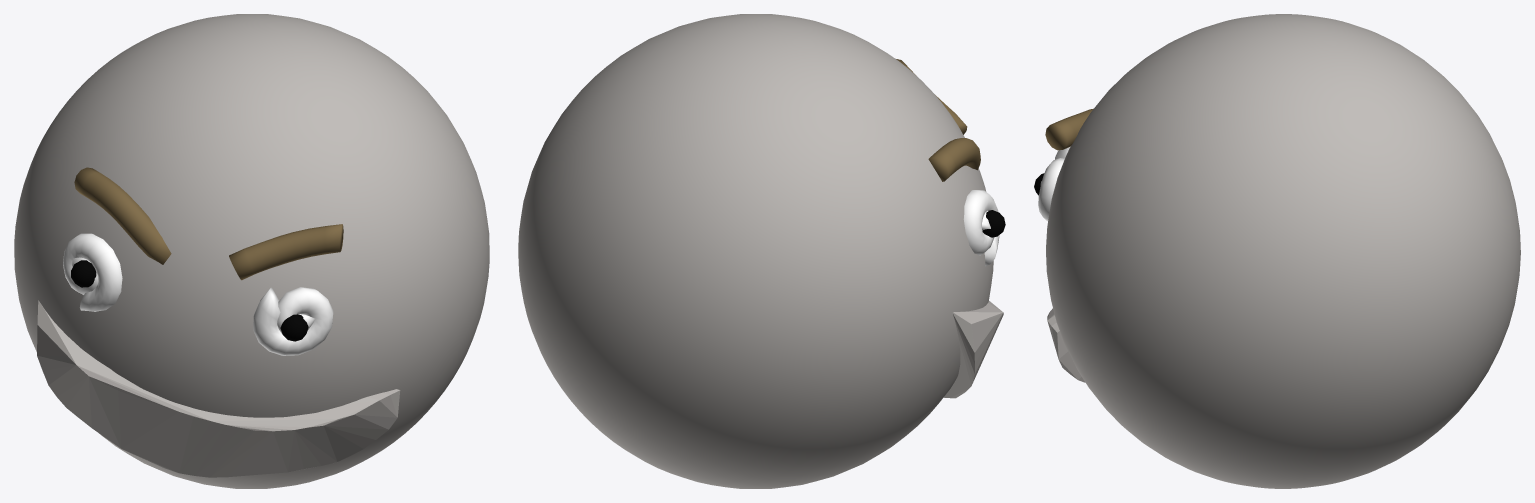
The model's file is Supervisor_2025-09-22_14.00.31.gltf.
3 renders of one model, left to right at view 1: azimuth 30°, elevation 25°; view 2: azimuth 150°, elevation 25°; view 3: azimuth 270°, elevation 25°, orthographic.
Parts seen in each view (by area): view 1: Sphere, LODGroup (×7); view 2: Sphere, LODGroup (×3); view 3: Sphere, LODGroup (×3).
Boxes of the visible parts, x1,y1,x2,y2 form: Sphere: (14,14,489,488); LODGroup (×7): (37,167,400,477); Sphere: (518,14,993,488); LODGroup (×3): (928,138,1003,398); Sphere: (1046,14,1520,488); LODGroup (×3): (1038,108,1093,382).
Bounding box in the file's own units: 0.6012 × 0.5857 × 0.6006.
